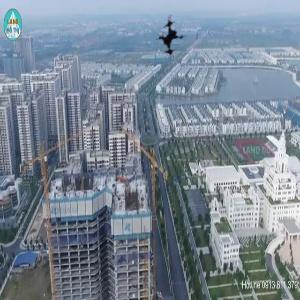drone: (153, 12, 203, 62)
